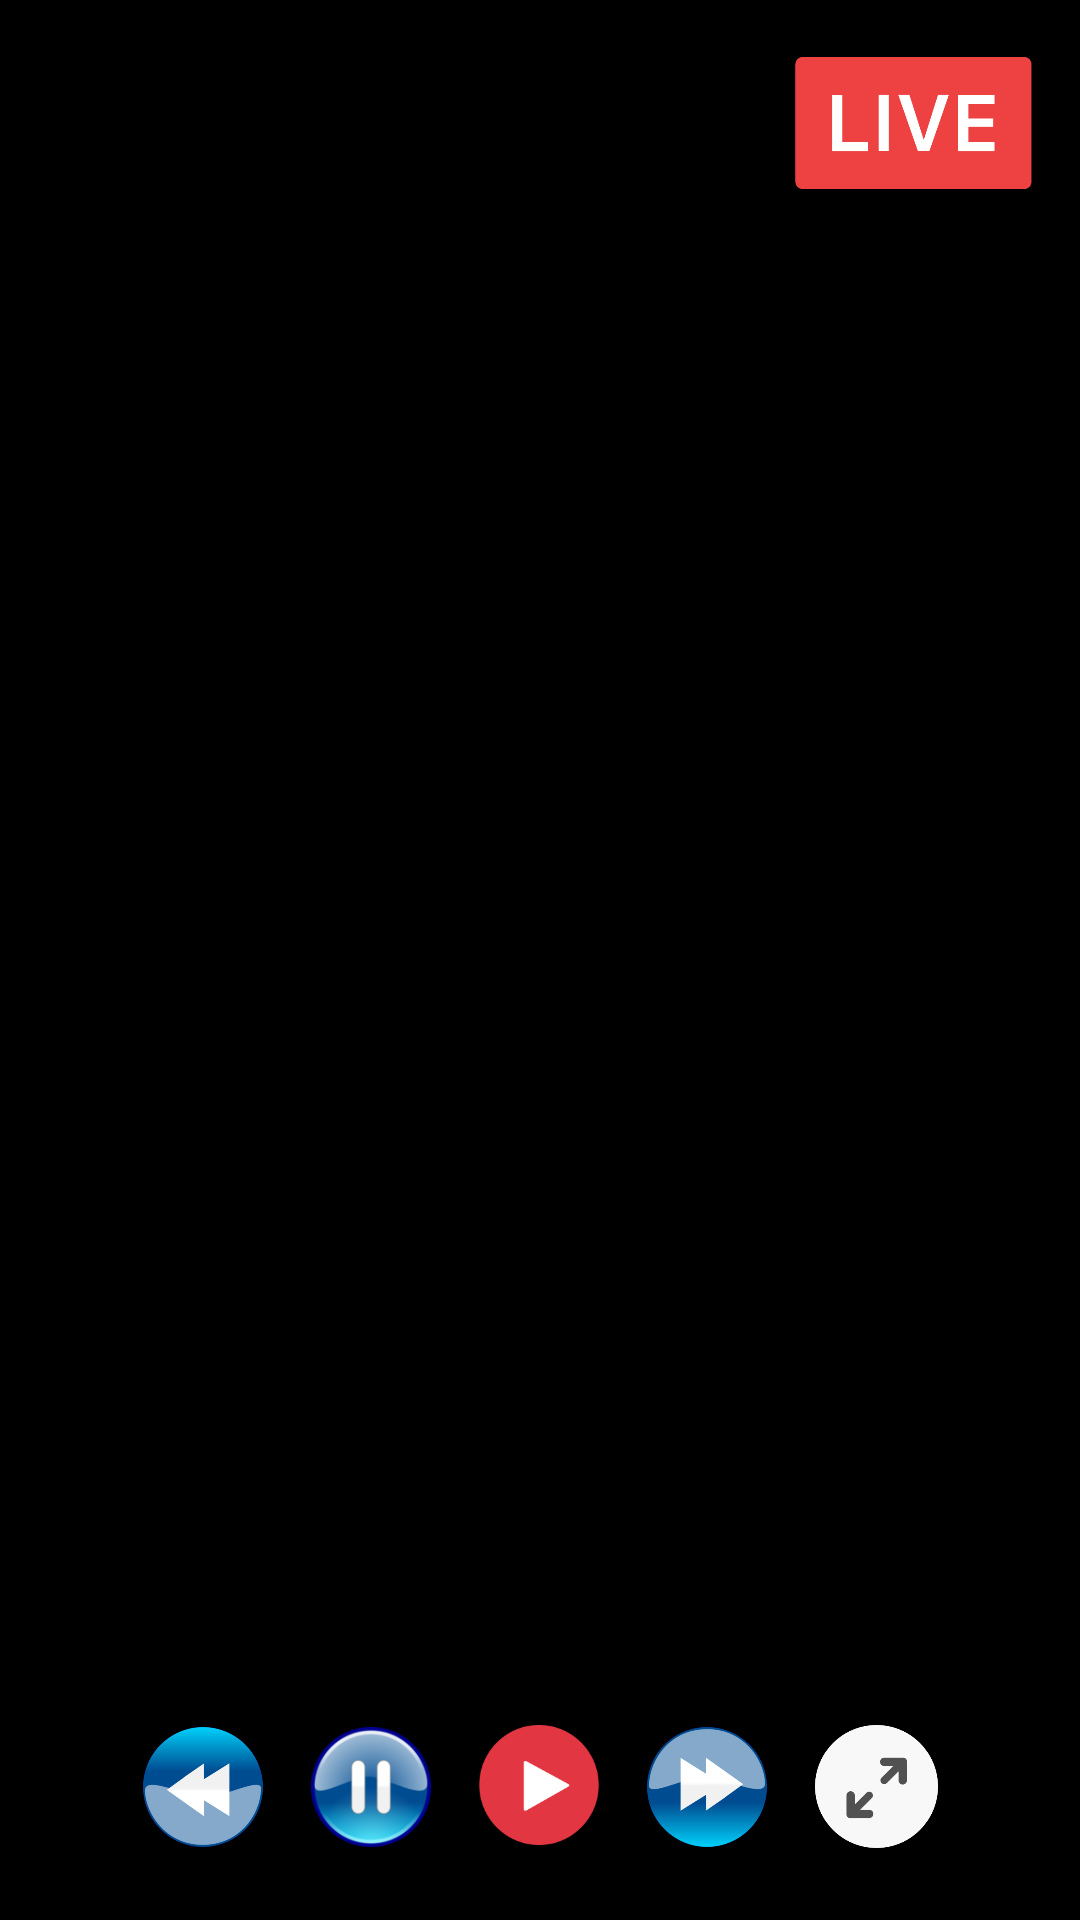

Locate icon controls on the screen. Image size 1080x1920, boxes as rect(x1, y1, x2, y2).
full screen: rect(815, 1725, 938, 1848)
